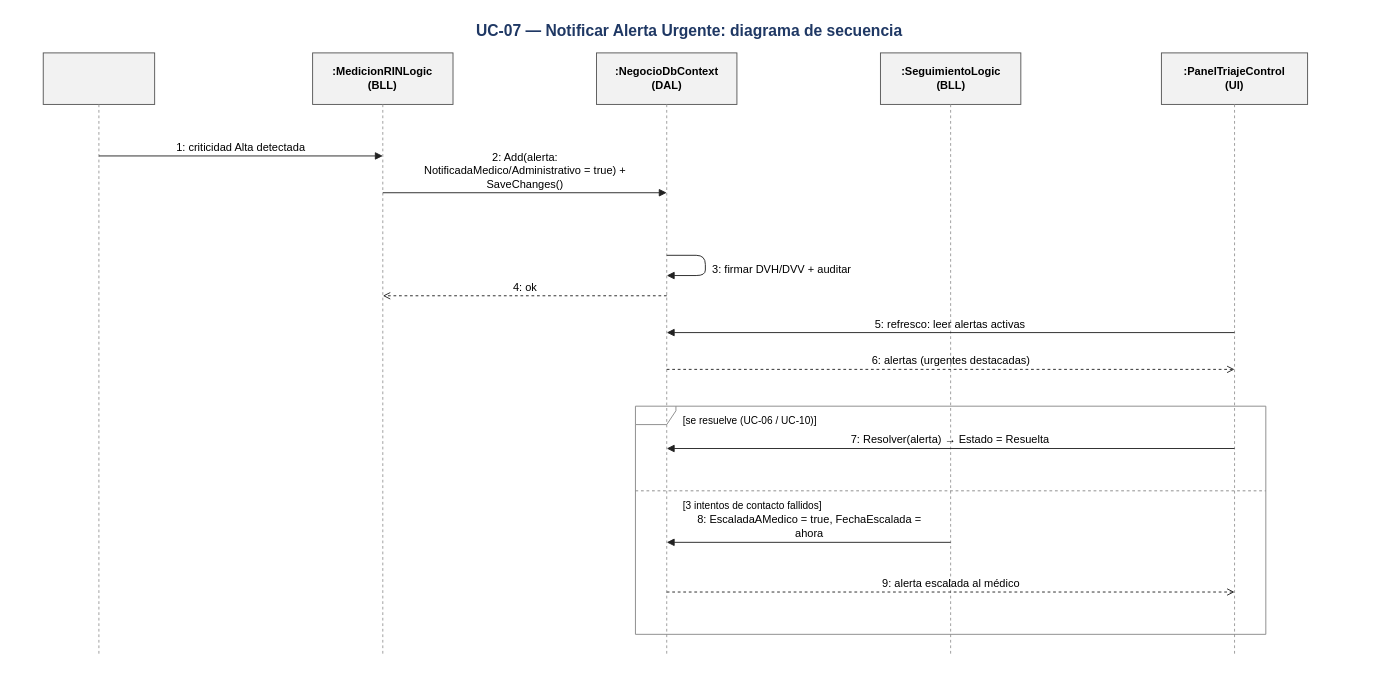
Some shapes in this 1379 by 673 pixel diagram are drawn without their labels. Each missing label, with the box of its shape:
alt: (635, 405, 1266, 634)
Reportar() (UC-04): (42, 52, 155, 104)
